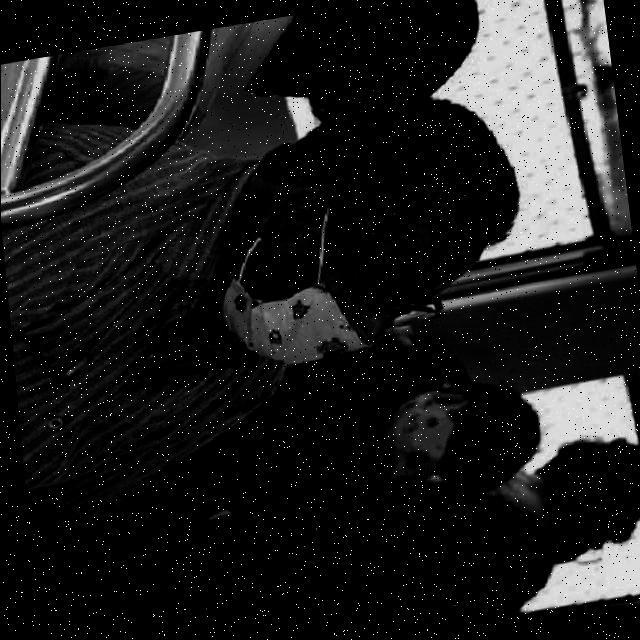mask: (232, 298, 348, 362), (400, 390, 450, 460)
no_gloves: (414, 123, 496, 247), (364, 11, 464, 88), (566, 435, 640, 531), (474, 404, 518, 469)
